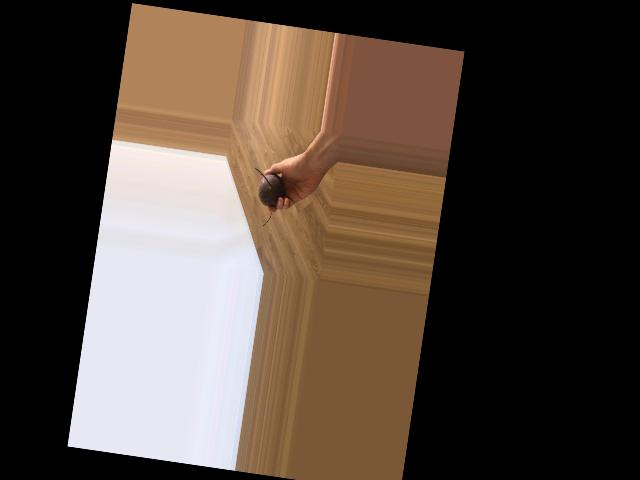beet: (247, 168, 287, 228)
